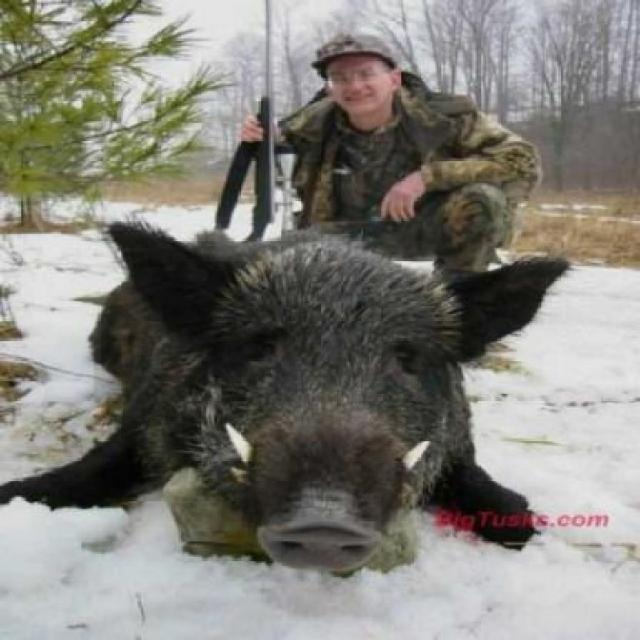pig: (41, 158, 532, 602)
